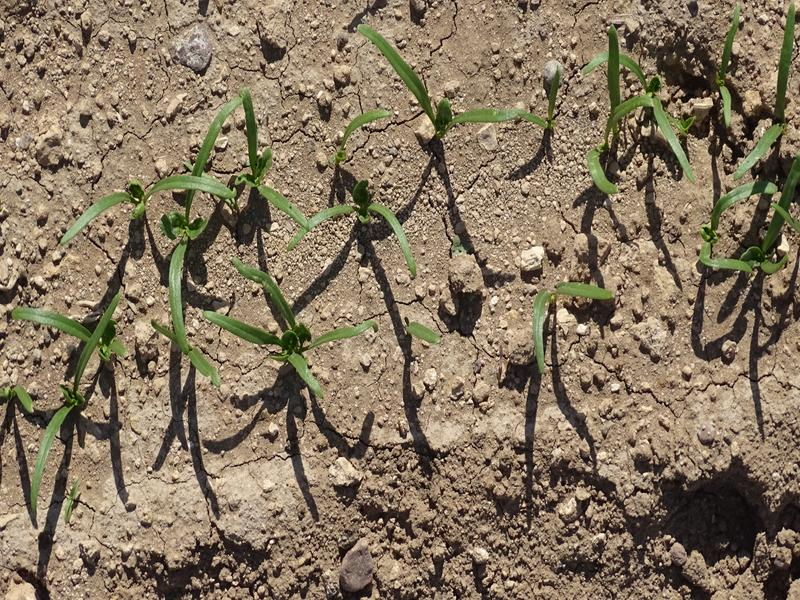Espinaca: (63, 101, 309, 240), (166, 248, 378, 388), (7, 282, 126, 504), (700, 15, 792, 281), (361, 26, 548, 137), (574, 23, 689, 185), (526, 282, 612, 377), (311, 197, 416, 269)
